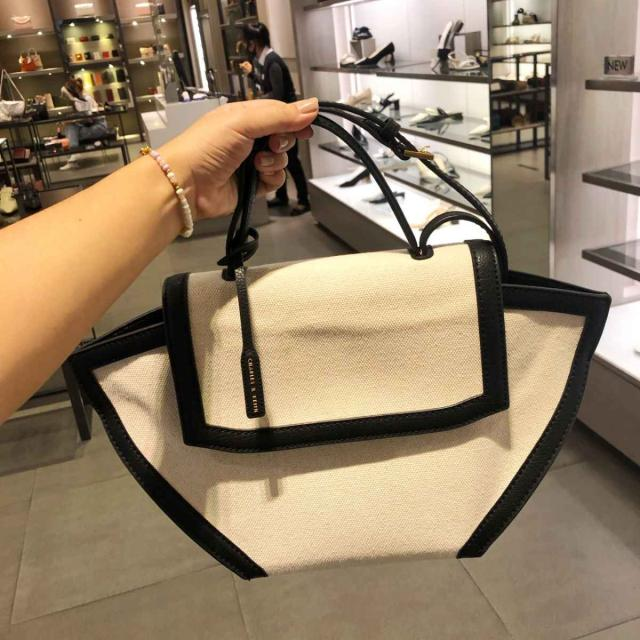handbag: (83, 237, 609, 578)
